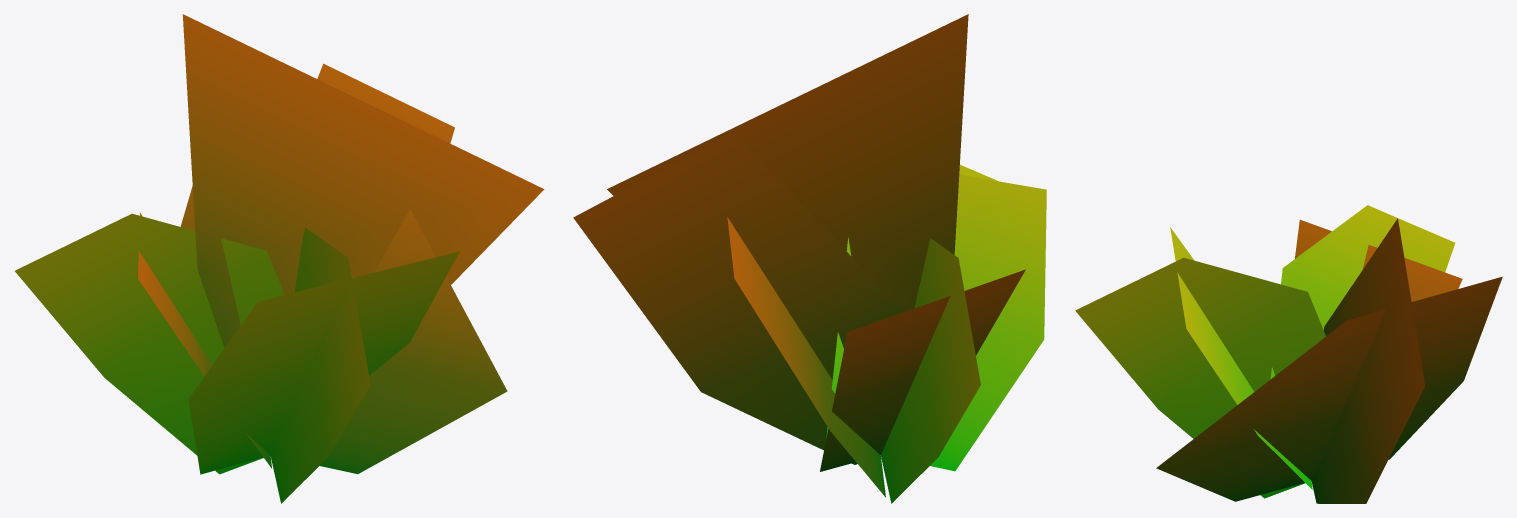
The model's file is Var2_LOD1.fbx.
3 views of the same model, side by side, from view 1: azimuth 30°, elevation 25°; view 2: azimuth 150°, elevation 25°; view 3: azimuth 270°, elevation 25° (orthographic). The views are drawn at different scales.
Parts seen in each view (by area): view 1: _3677_Var2_LOD1; view 2: _3677_Var2_LOD1; view 3: _3677_Var2_LOD1.
Boxes of the visible parts, x1,y1,x2,y2 form: _3677_Var2_LOD1: (15, 14, 544, 503); _3677_Var2_LOD1: (573, 14, 1046, 503); _3677_Var2_LOD1: (1075, 205, 1502, 503).
Size of the model in its own units: 40.71 by 42.08 by 36.12.
